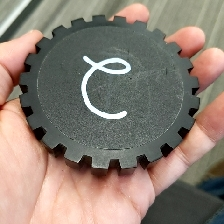gear: (16, 12, 202, 177)
